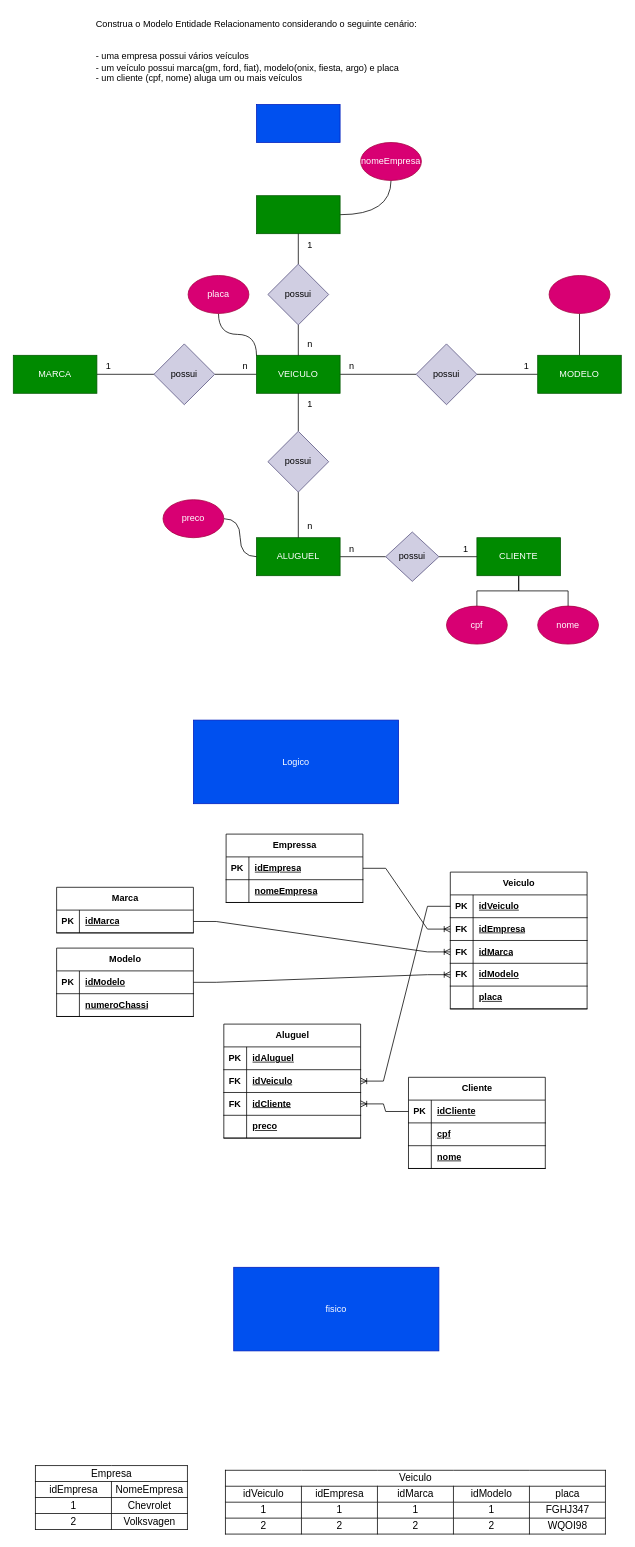
This 635x1547 diagram has some shape labels left out. Here are the shapes that lost their labels. From the top down, the centre of each, then its label:
[298,123]: Conceitual
[298,214]: EMPRESA
[579,294]: numero de chassi
